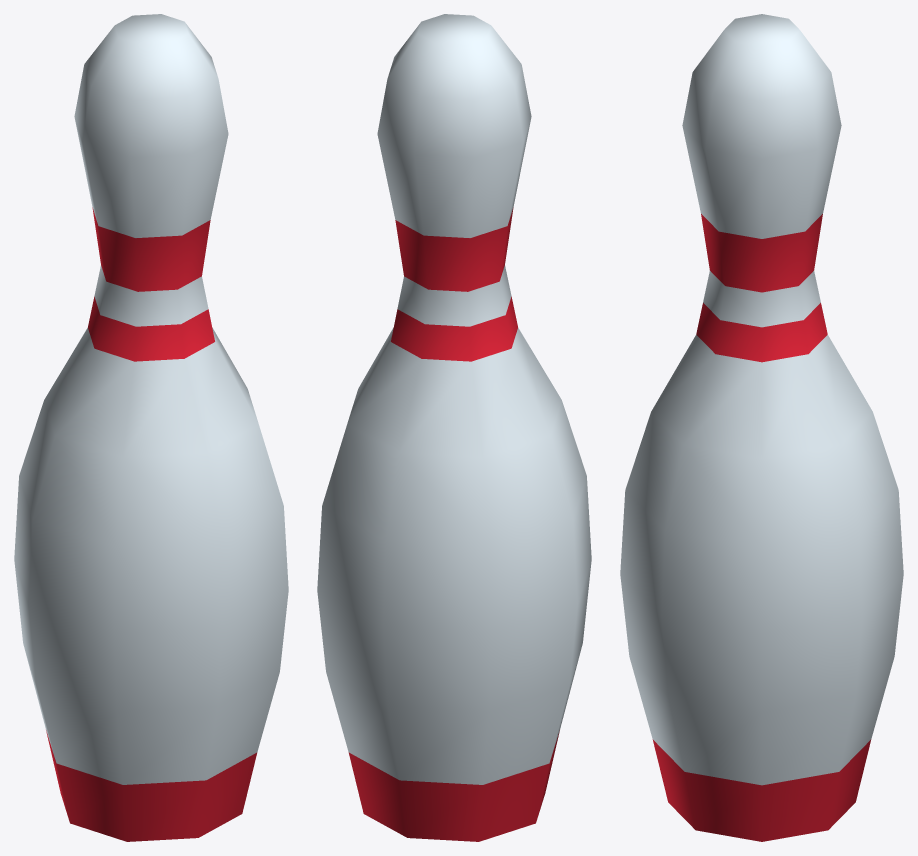
The model's file is Skittle_1.FBX.
3 views of the same model, side by side, from view 1: azimuth 30°, elevation 25°; view 2: azimuth 150°, elevation 25°; view 3: azimuth 270°, elevation 25° (orthographic).
Parts seen in each view (by area): view 1: Skittle_1; view 2: Skittle_1; view 3: Skittle_1.
Part boxes in pixels (<box>): Skittle_1: <box>14,14,288,841</box>; Skittle_1: <box>317,14,591,841</box>; Skittle_1: <box>620,14,903,841</box>.
Size of the model in its own units: 0.9465 by 2.84 by 0.9465.
